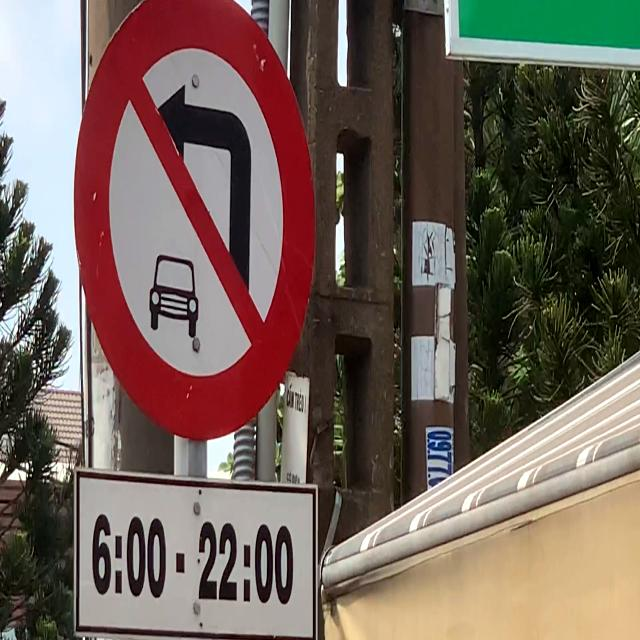P.103c: (72, 0, 321, 449)
